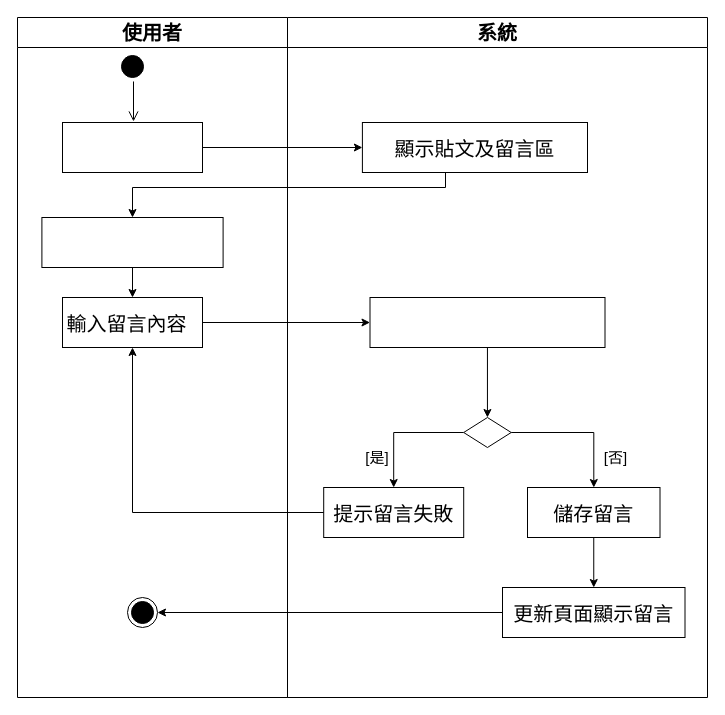
This 725x715 diagram has some shape labels left out. The box of each missing label's shape, as (x1, y1, x2, y2) in pixels:
檢查輸入資料是否有問題: (369, 296, 605, 348)
點擊留言區: (41, 216, 223, 268)
點選社群頁面: (62, 122, 202, 172)
